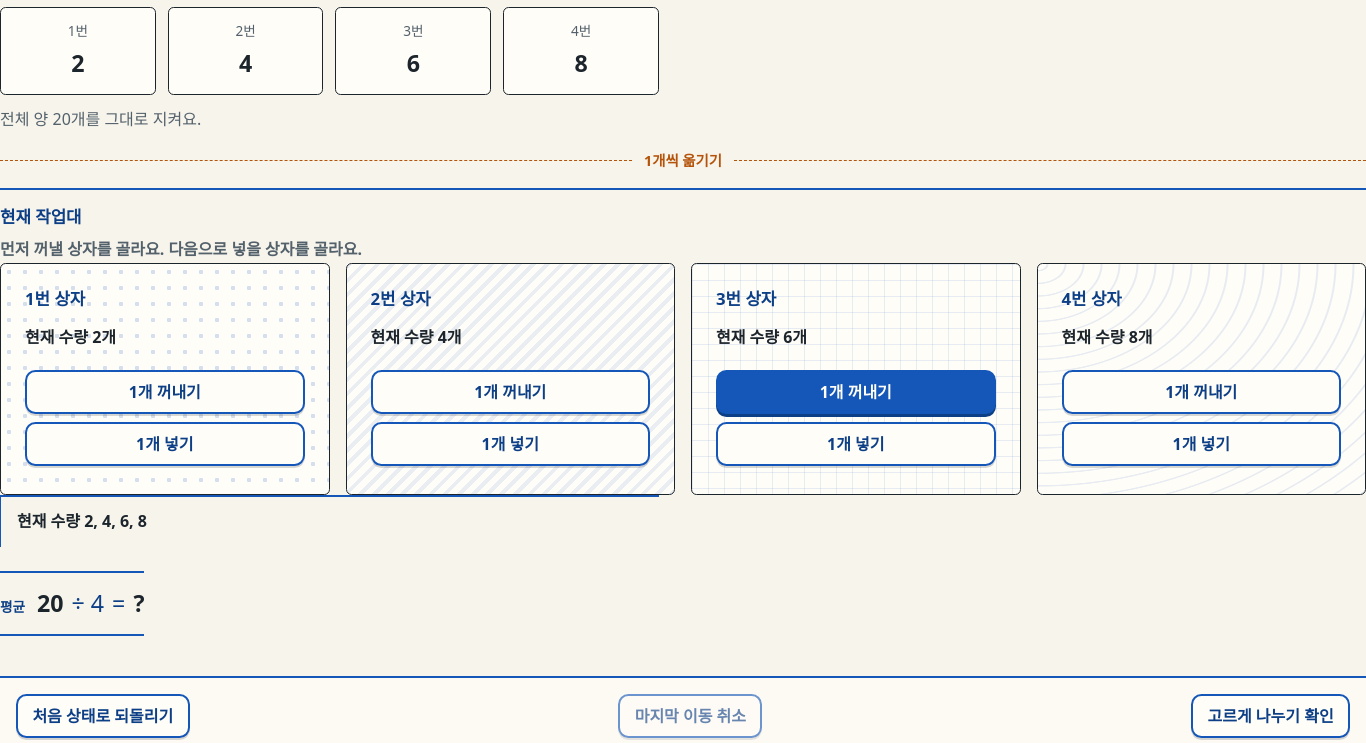
RedistributionPanel › moves one item using source and destination buttons and announces it
(page scrolled)
Click the button with aria-label "4번 상자에서 1개 꺼내기": {"x": 1201, "y": 392} top-left (1062, 370), bottom-right (1341, 414)
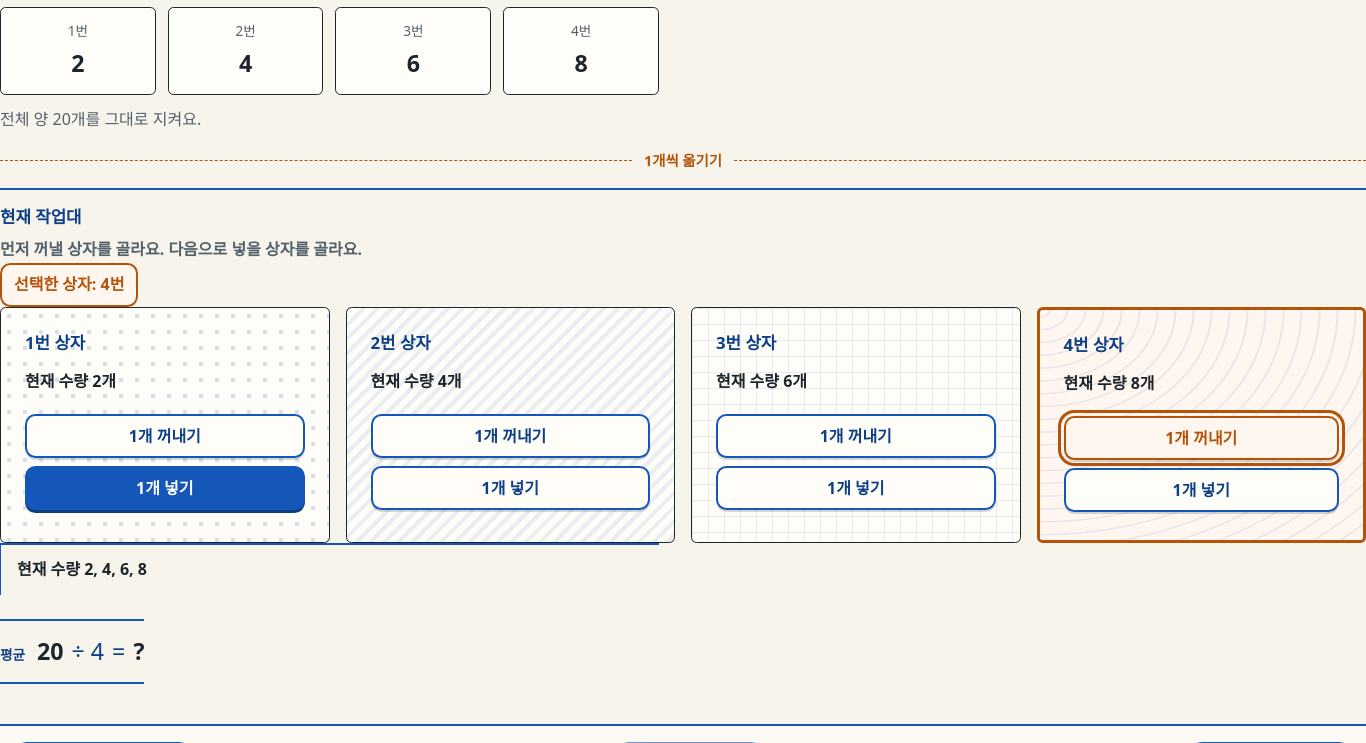
Click the button with aria-label "1번 상자에 1개 넣기": {"x": 165, "y": 488} top-left (25, 466), bottom-right (304, 510)
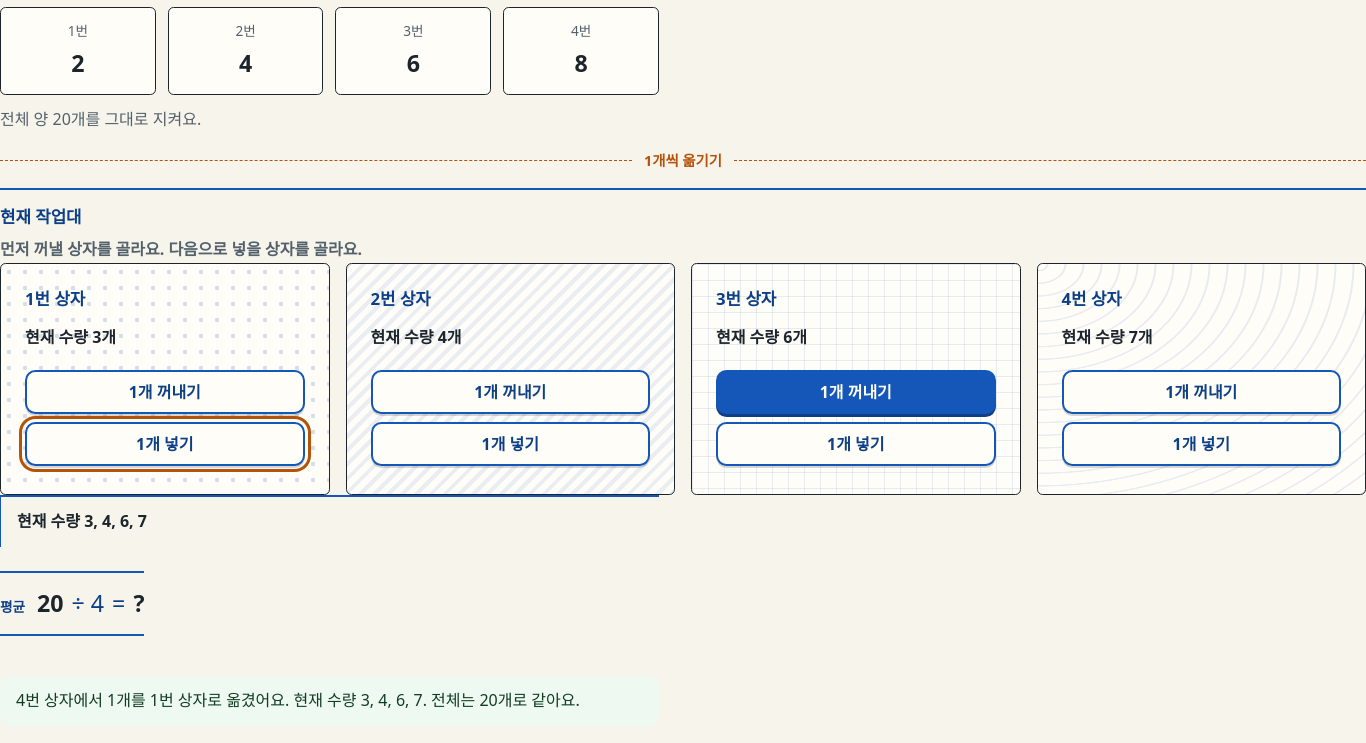
Now the text "현재 수량 3, 4, 6, 7" is shown, box top-left (0, 496), bottom-right (659, 547)
Now the message reads "4번 상자에서 1개를 1번 상자로 옮겼어요. 현재 수량 3, 4, 6, 7. 전체는 20개로 같아요.", box top-left (16, 689), bottom-right (580, 711)
